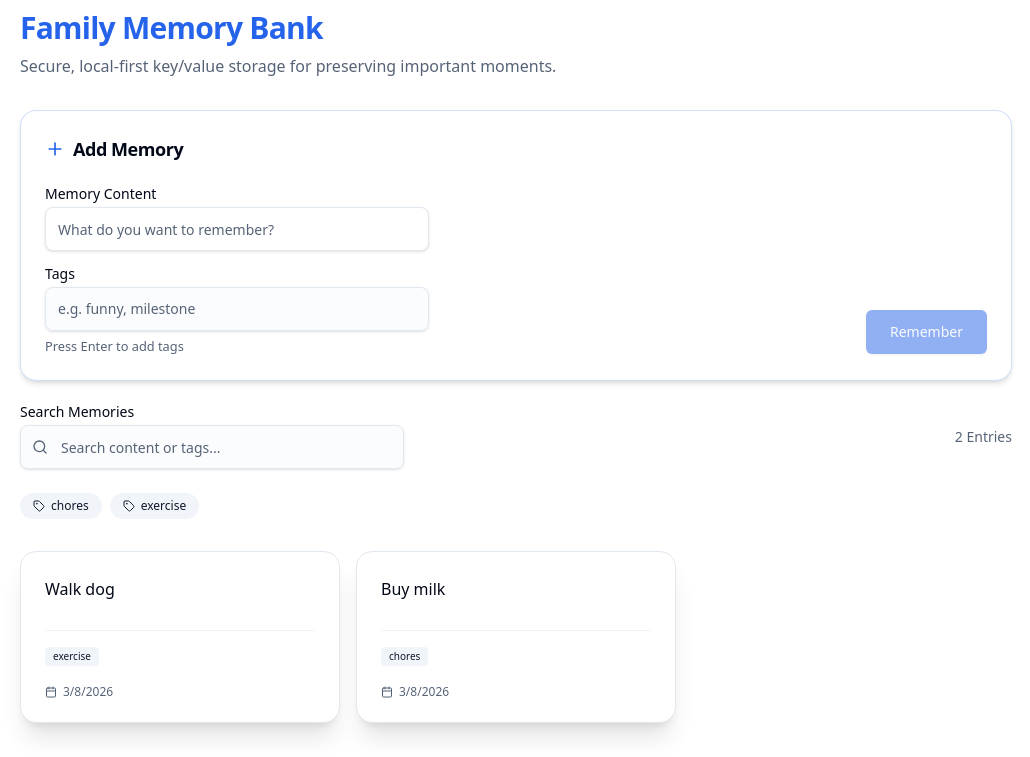
Test: InfinityLog Accessibility › should filter items when searching
The image size is (1030, 757).
Expected: the text "Buy milk" is shown, [381,578,445,600]
Expected: the text "Walk dog" is shown, [45,578,115,600]
Type "milk" into the field labelled "Search Memories".
click(212, 447); type("milk")  # box [20,425,404,469]
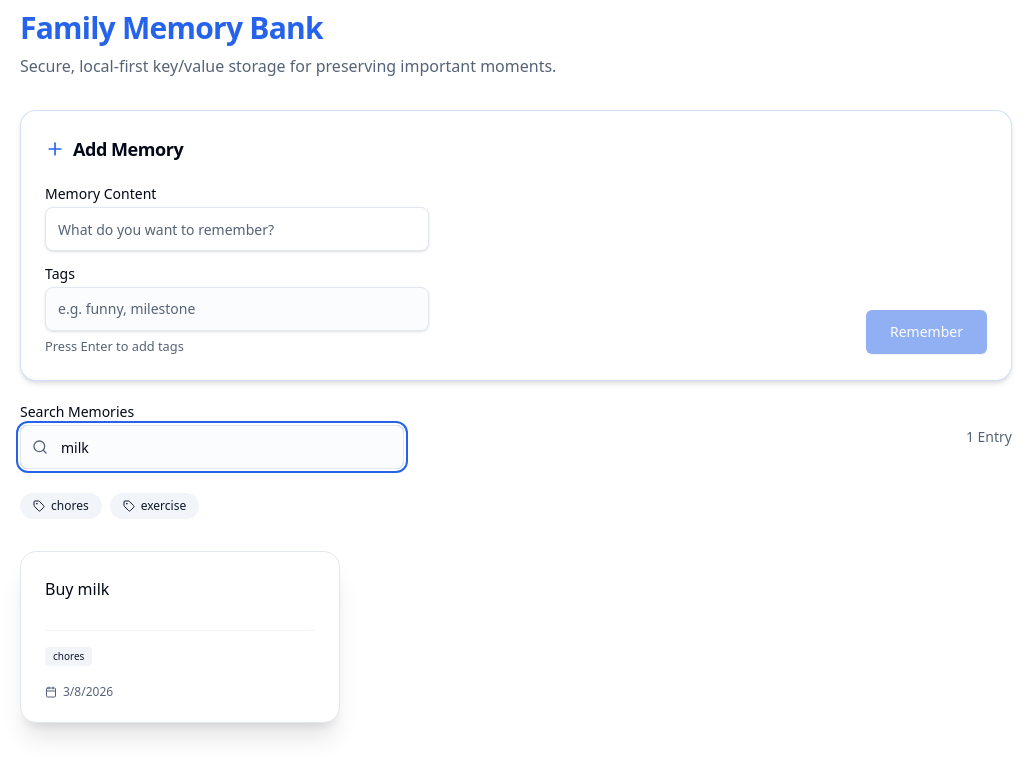
Expected: the text "Buy milk" is shown, [45,578,109,600]
Now the text "Walk dog" is gone
